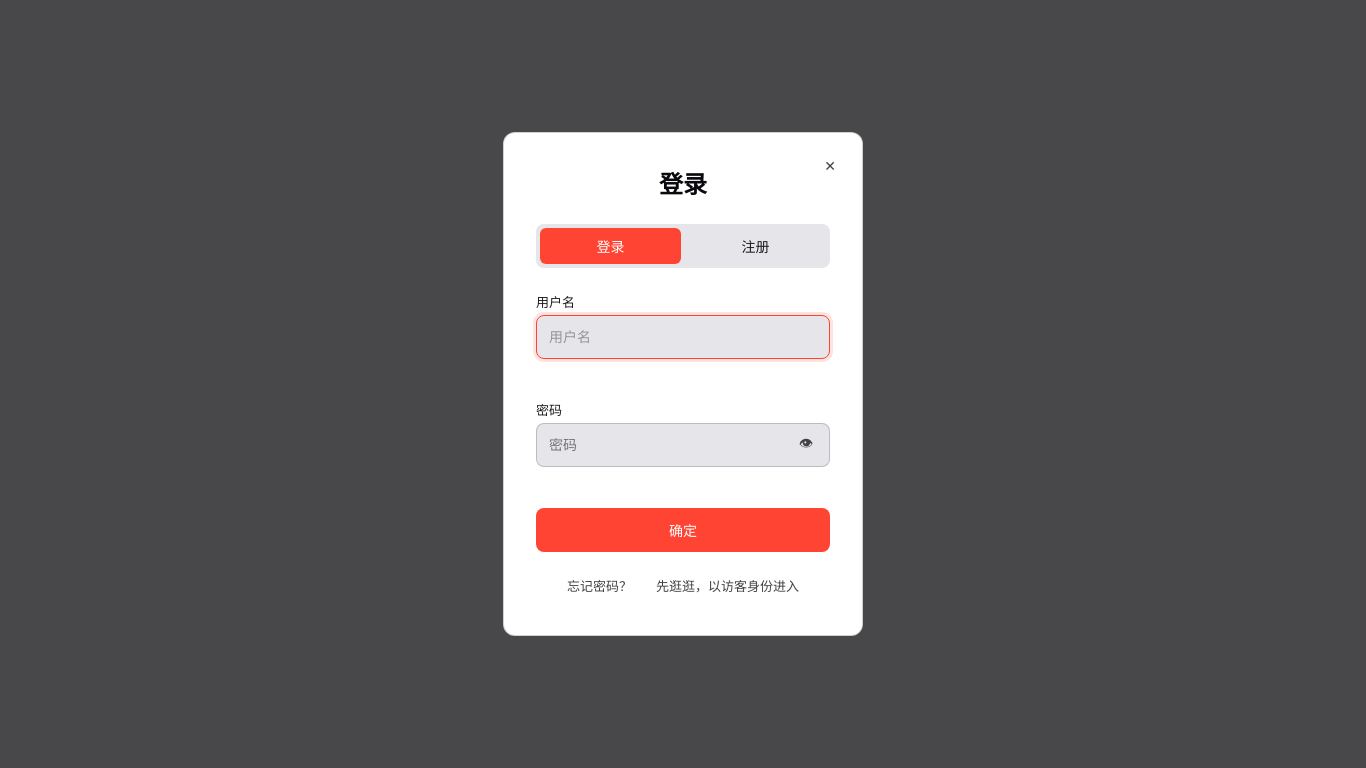
Test: AuthDialog › 注册表单 › 注册成功但需要审批时显示提示消息
The image size is (1366, 768).
Click the tab "注册" at {"x": 756, "y": 246}, box x1=685 y1=228 x2=826 y2=264
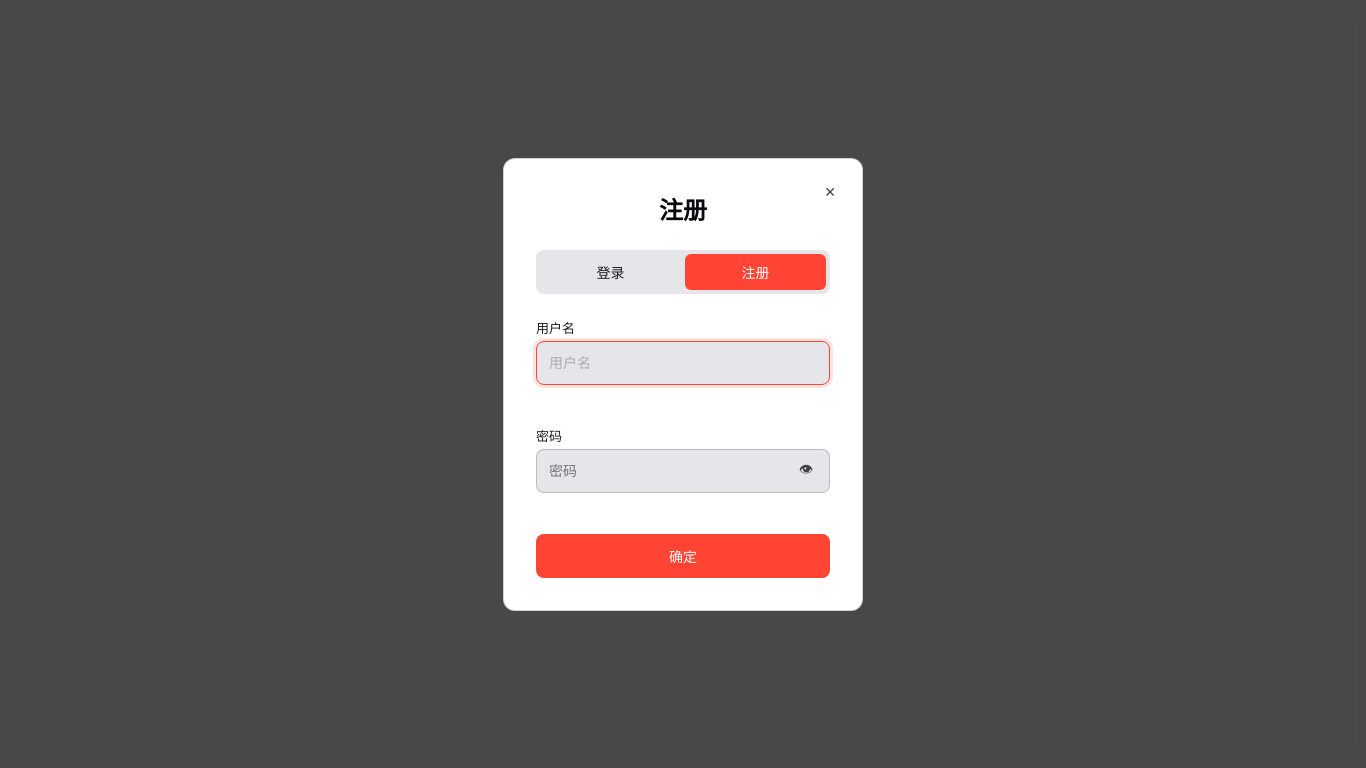
Type "newuser" into the field with placeholder "用户名" at {"x": 683, "y": 362}, box x1=536 y1=340 x2=830 y2=384
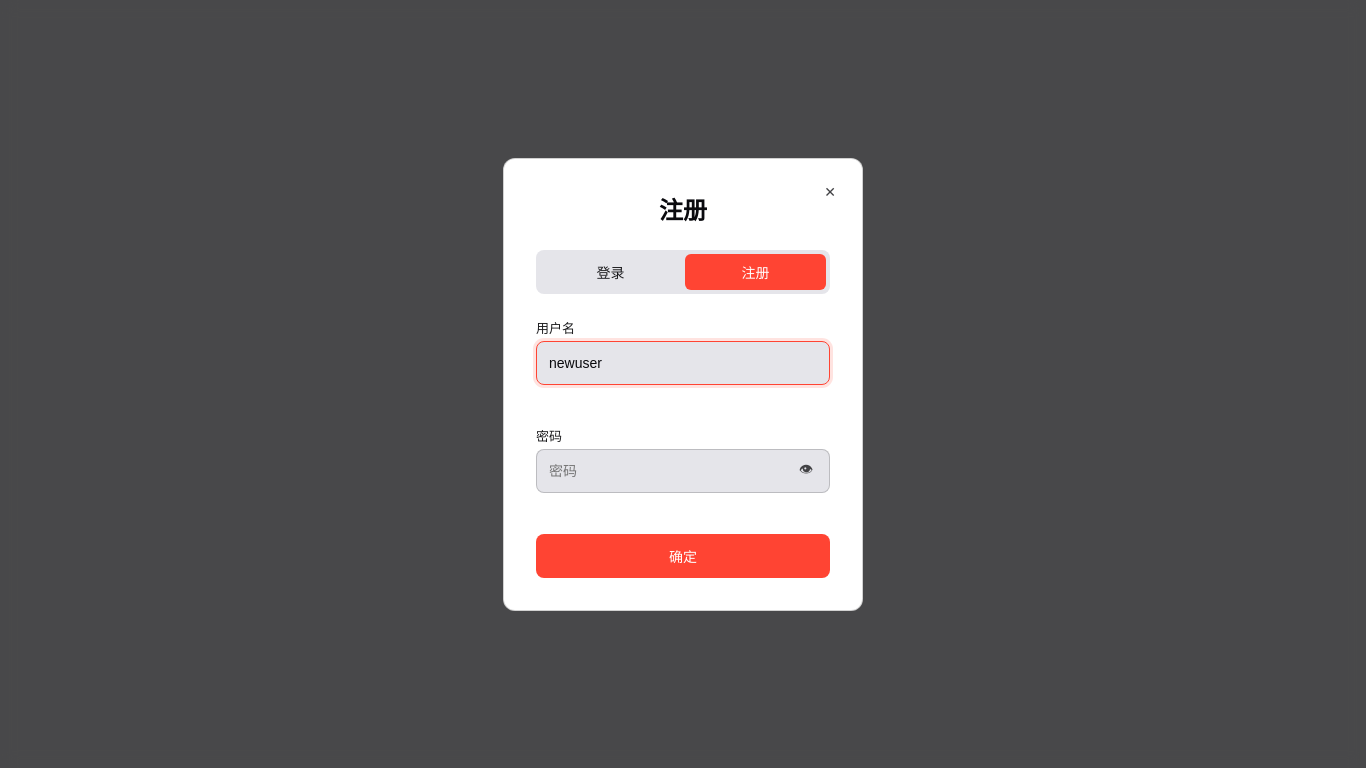
Type "NewPass@1234" into the password field labelled "密码 👁" at {"x": 683, "y": 470}, box x1=536 y1=448 x2=830 y2=492
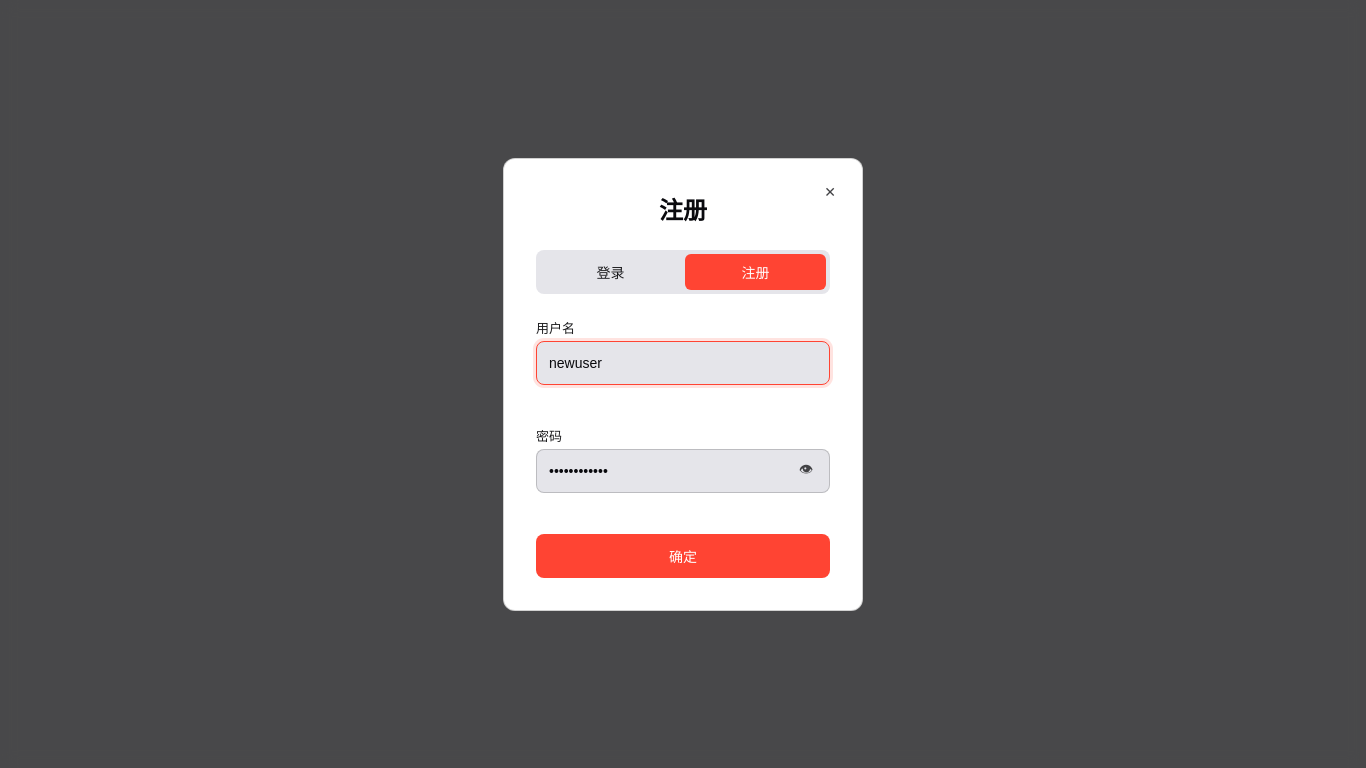
Click the button "确定" at {"x": 683, "y": 556}, box x1=536 y1=534 x2=830 y2=578
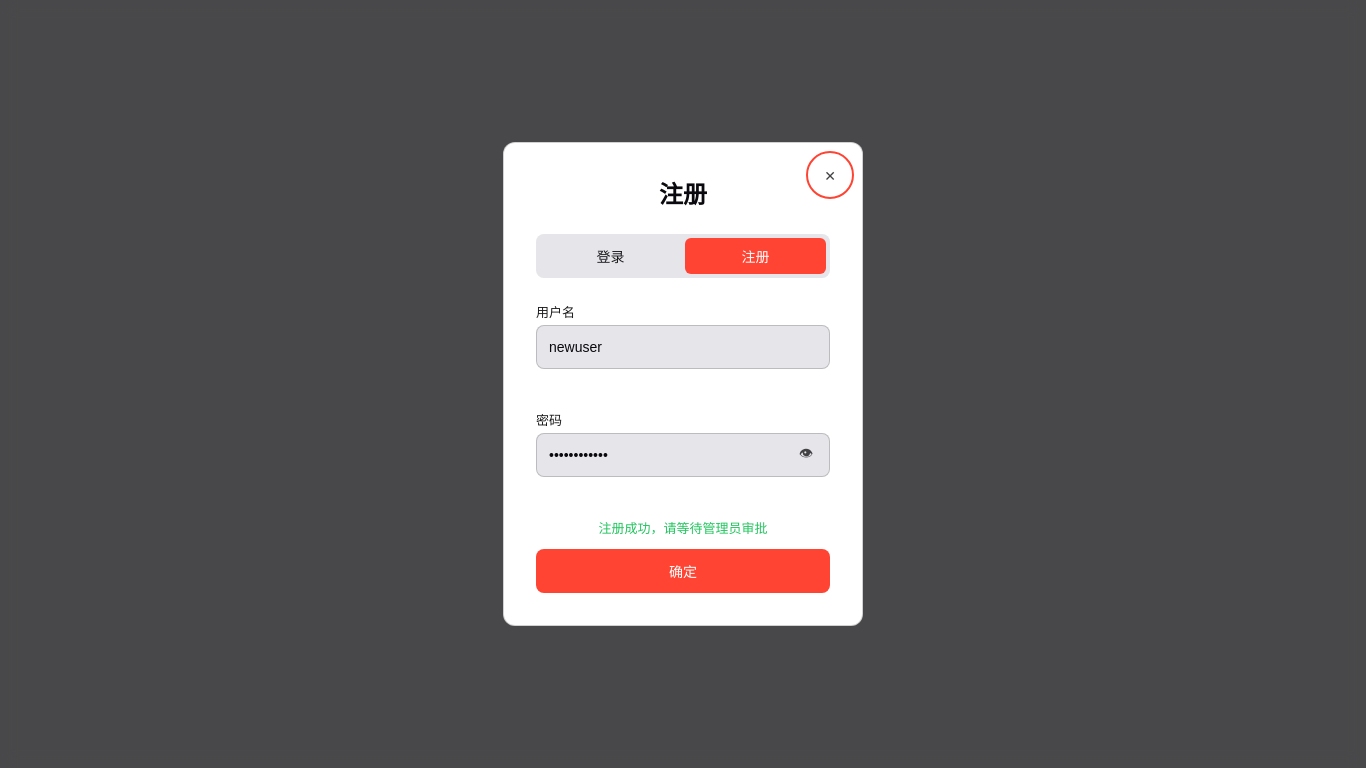
Now the text "注册成功，请等待管理员审批" is shown, box x1=598 y1=520 x2=768 y2=536
